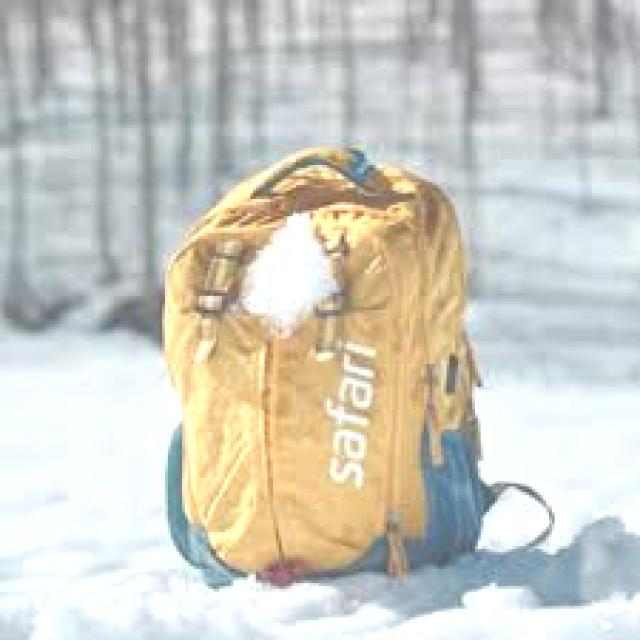backpack: (161, 144, 553, 590)
